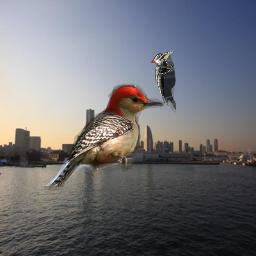Woodpecker: (44, 83, 167, 190), (151, 50, 176, 114)
